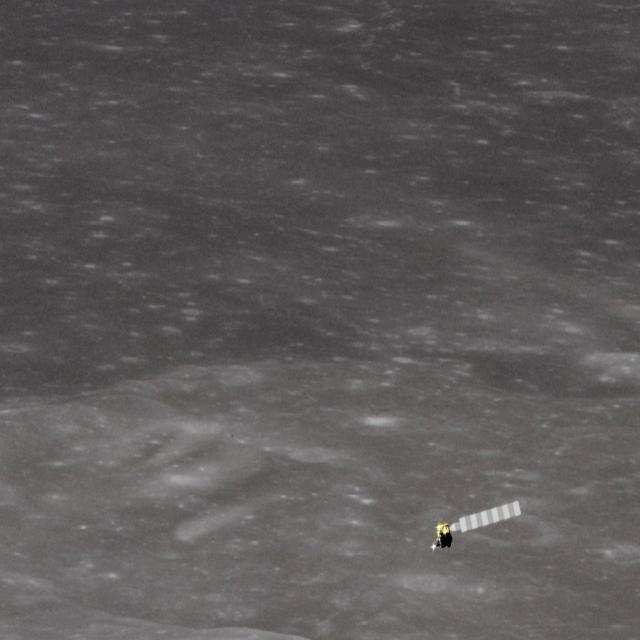satellite: (420, 495, 530, 561)
